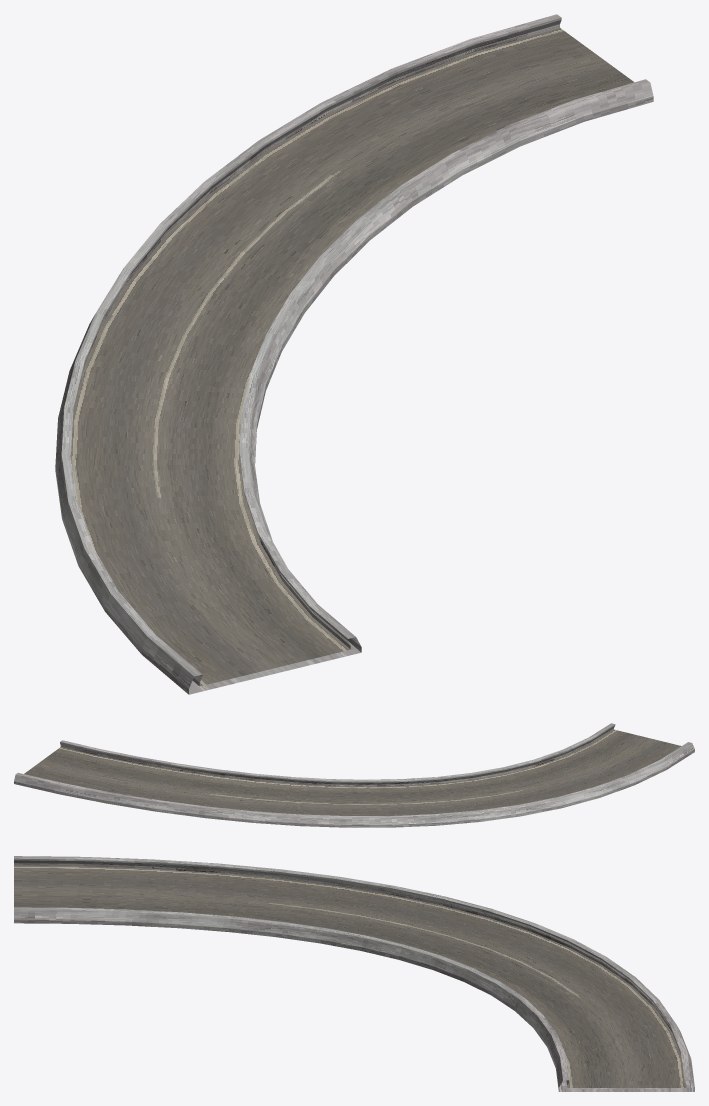
Rendered from road-Turn-Flat-Flat-Up2-Right-Size5.glb.
3 renders of one model, top to bottom at view 1: azimuth 30°, elevation 25°; view 2: azimuth 150°, elevation 25°; view 3: azimuth 270°, elevation 25°, orthographic. The views are drawn at different scales.
Parts seen in each view (by area): view 1: road-Turn-Flat-Flat-Up2-Right-Size5; view 2: road-Turn-Flat-Flat-Up2-Right-Size5; view 3: road-Turn-Flat-Flat-Up2-Right-Size5.
Boxes of the visible parts, left/top/right/bottom form: road-Turn-Flat-Flat-Up2-Right-Size5: left=55, top=14, right=653, bottom=694; road-Turn-Flat-Flat-Up2-Right-Size5: left=14, top=723, right=694, bottom=827; road-Turn-Flat-Flat-Up2-Right-Size5: left=14, top=856, right=694, bottom=1091.
Bounding box in the file's own units: 5 × 0.5938 × 5.
2 materials, 2 textured.
